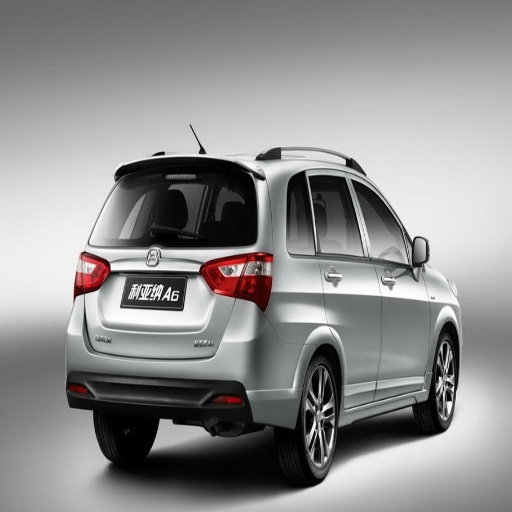back_bumper: (69, 296, 310, 423)
back_right_door: (291, 168, 378, 407)
trunk: (78, 250, 246, 358)
